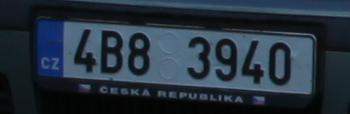0: (269, 42, 291, 85)
3: (187, 36, 209, 79)
4: (74, 27, 96, 72), (242, 40, 265, 83)
8: (128, 32, 149, 77)
9: (216, 38, 237, 82)
B: (100, 30, 122, 74)
